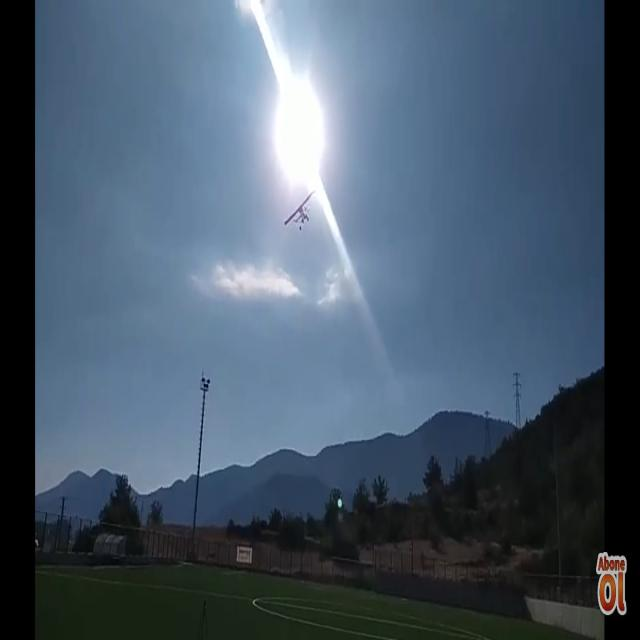iha: (284, 188, 316, 232)
